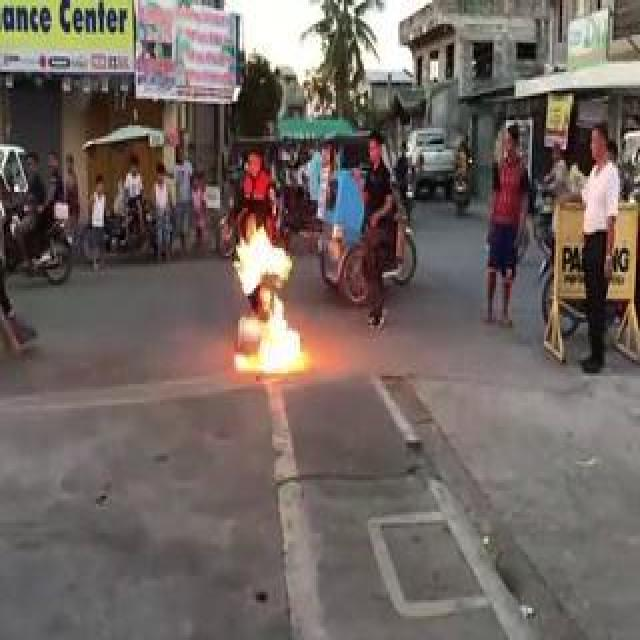Fire: (232, 231, 302, 377)
